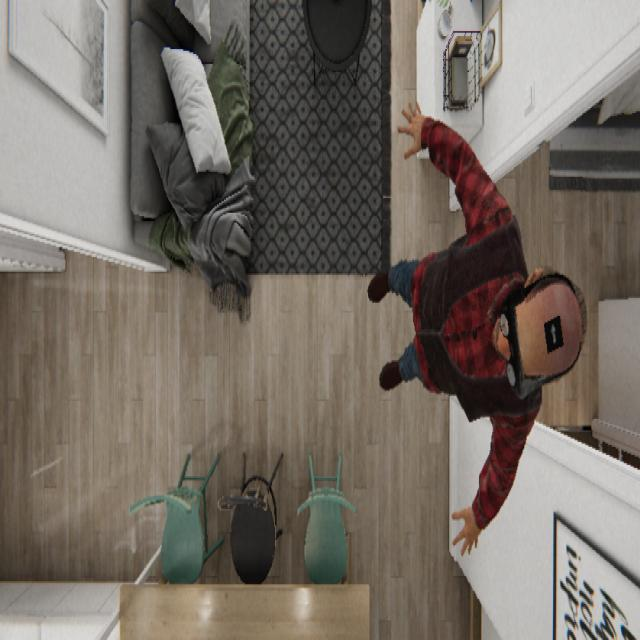Human: (366, 98, 586, 557)
UnityLogo: (542, 311, 564, 354)
